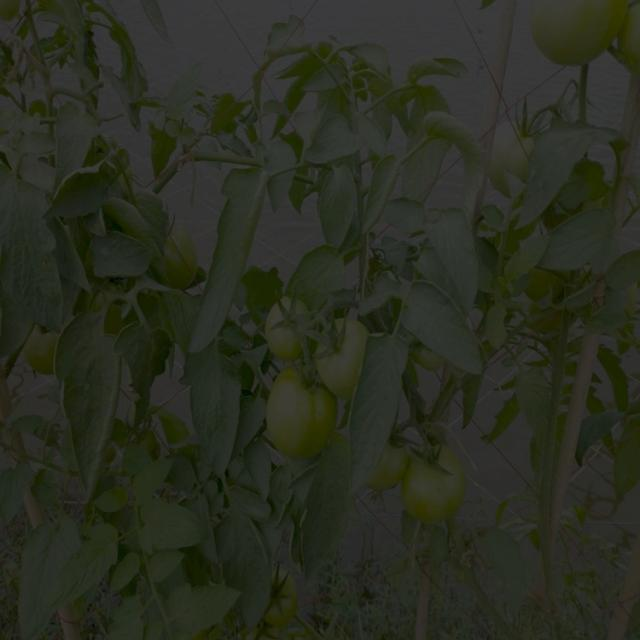tomato: (264, 362, 337, 465), (528, 1, 620, 70), (406, 437, 470, 533), (310, 316, 373, 402), (146, 213, 204, 294), (264, 290, 314, 361), (365, 433, 411, 494), (489, 125, 529, 192), (264, 567, 303, 621), (27, 319, 61, 378), (617, 1, 640, 74), (249, 619, 281, 640)
